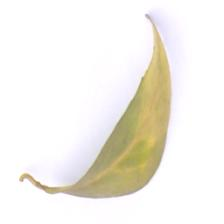greening: (66, 10, 185, 203)
